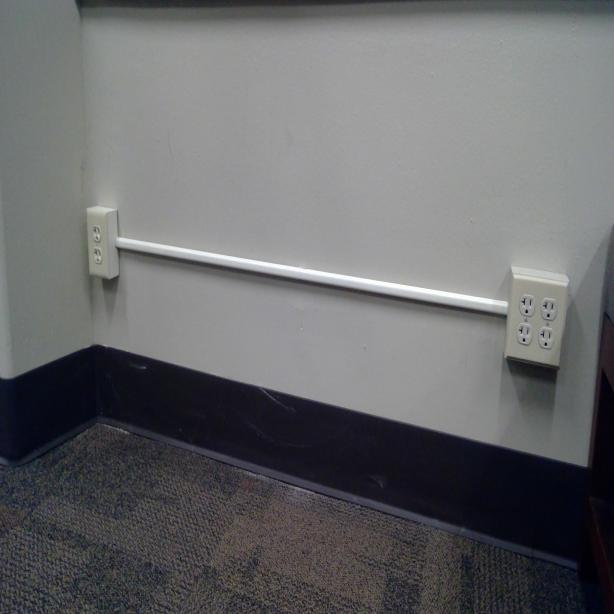typeb: (520, 294, 536, 316), (541, 299, 556, 322), (538, 327, 552, 351), (517, 322, 532, 344), (91, 222, 102, 242), (93, 246, 102, 263)
